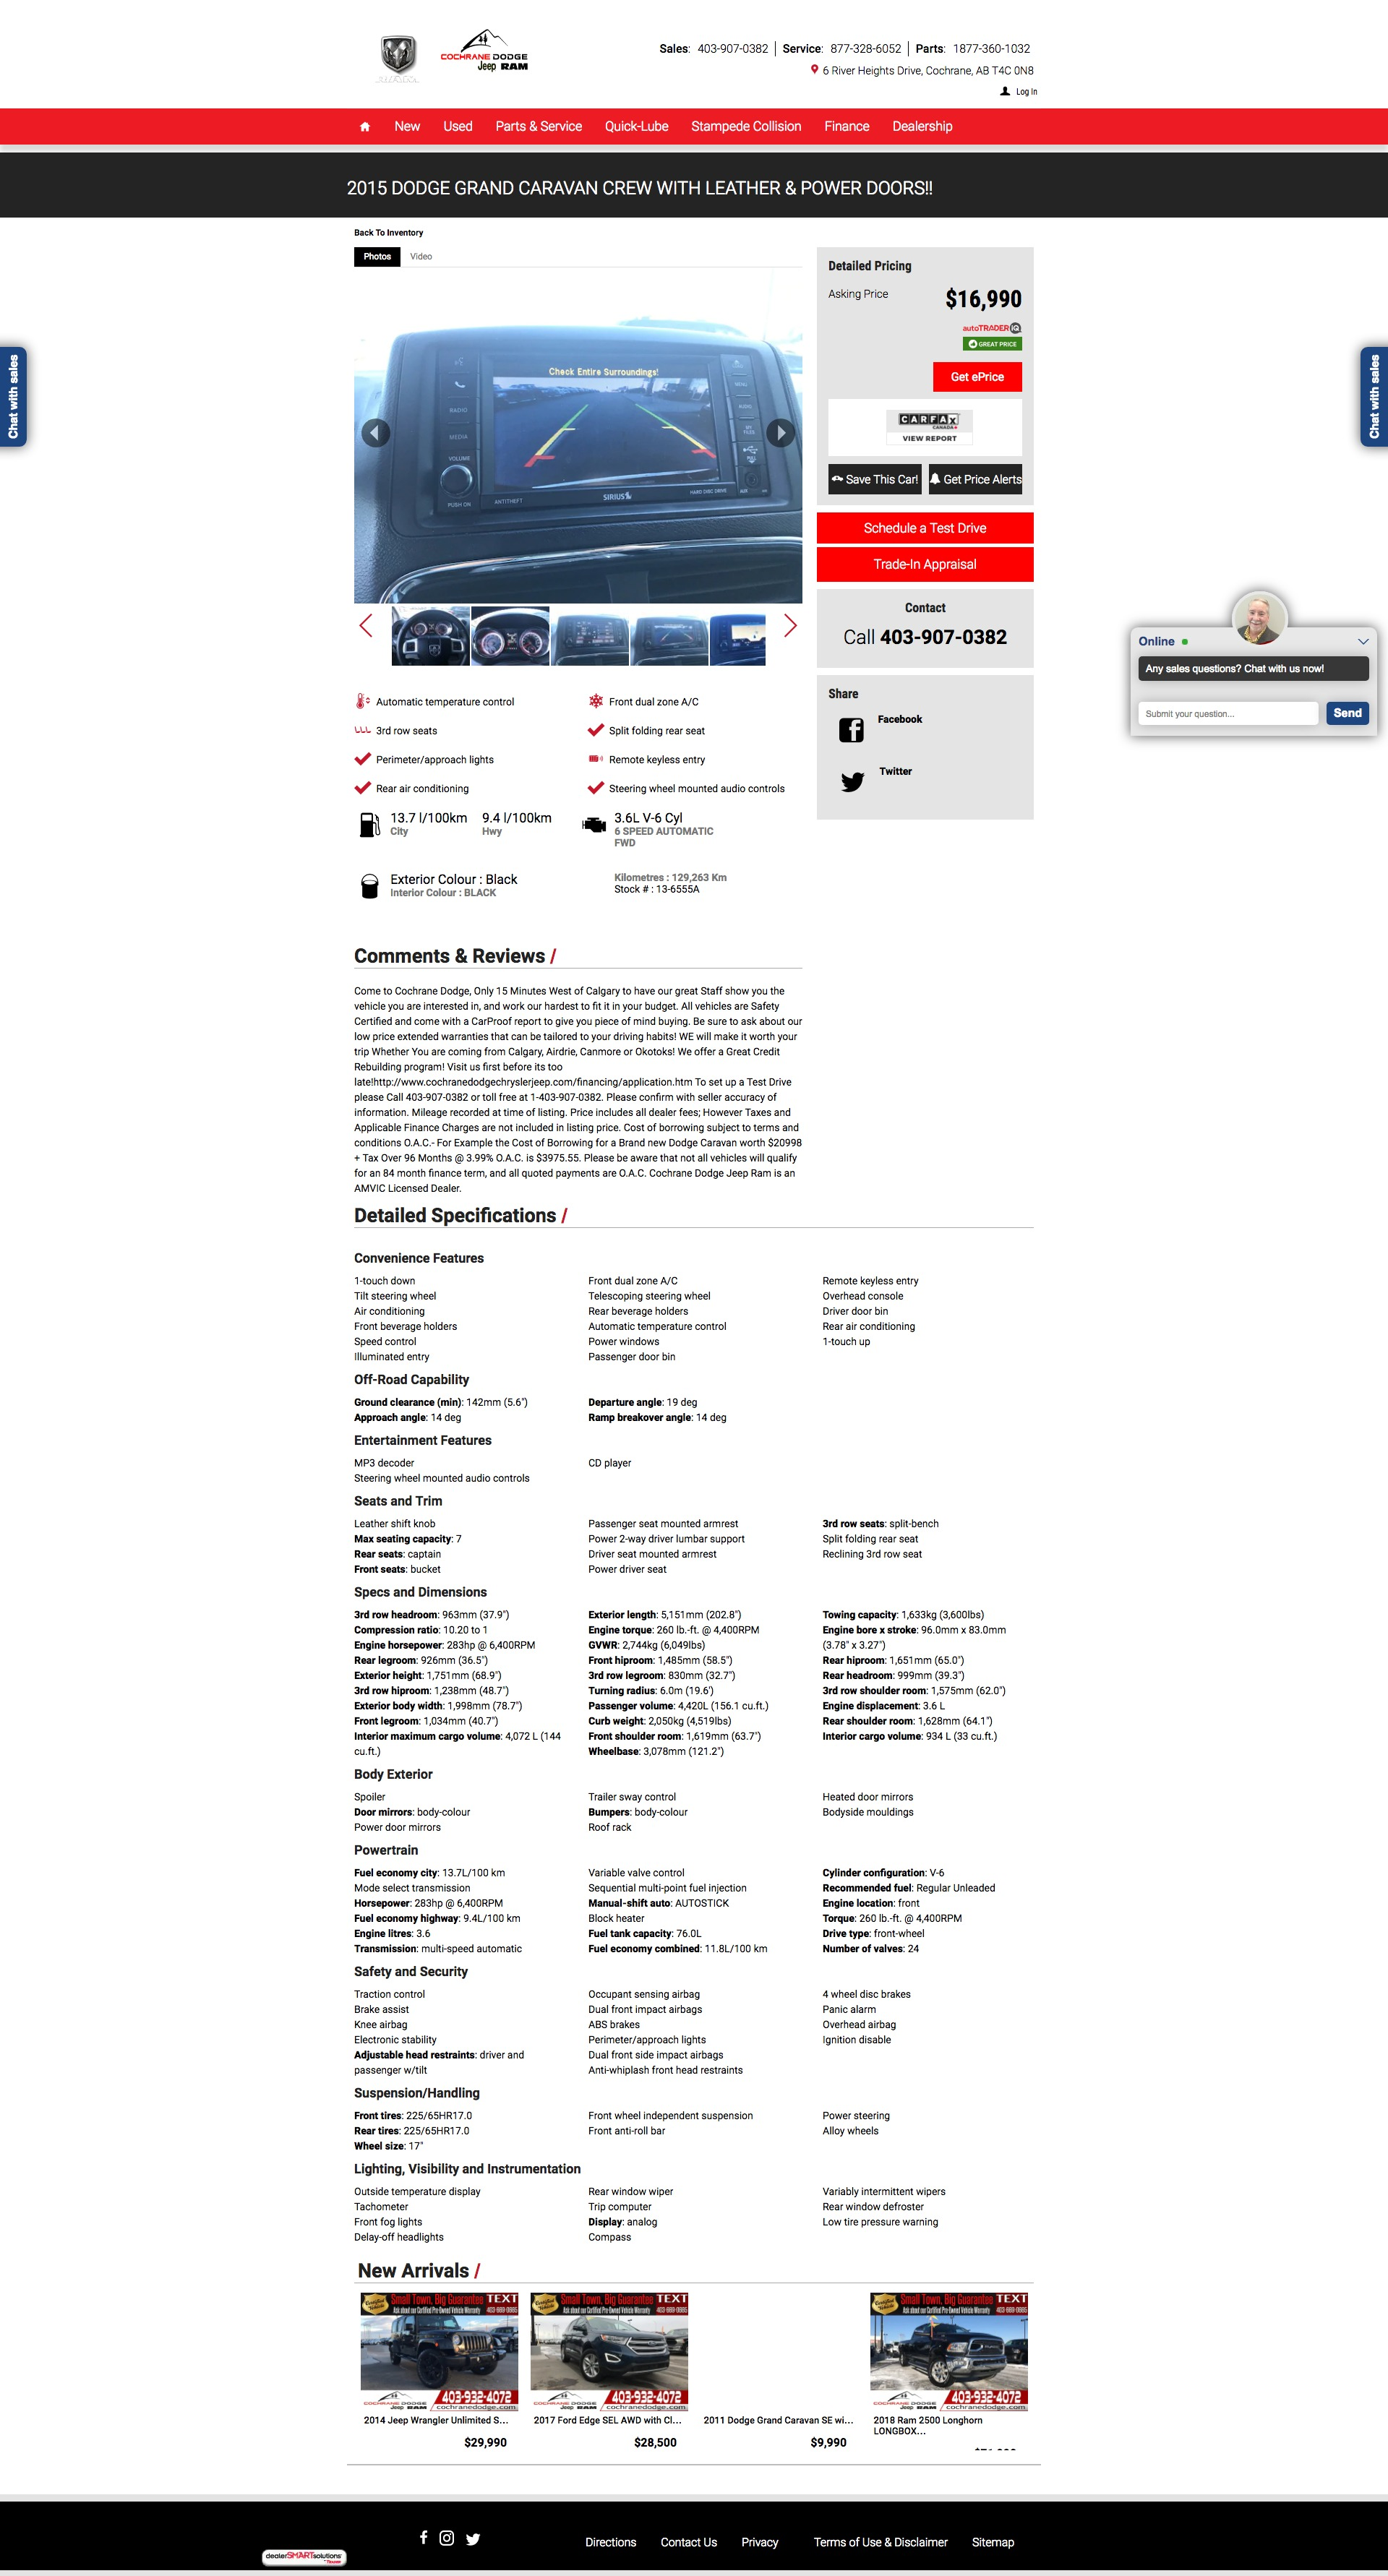car: (783, 613, 800, 639)
